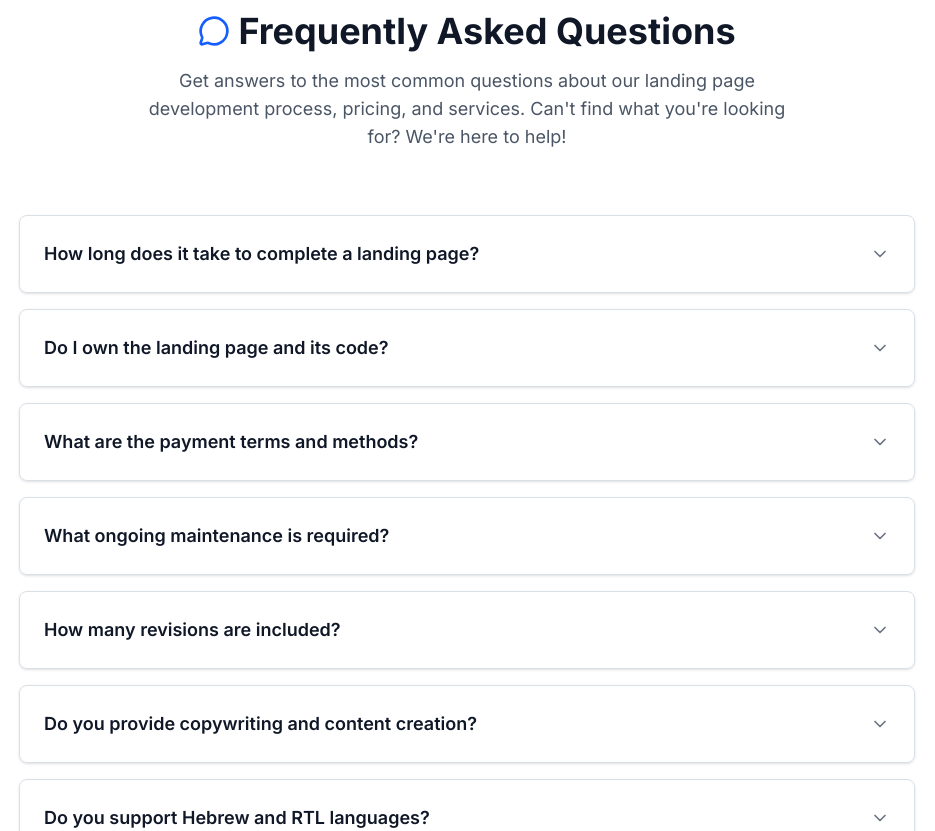
it: FAQ Component › Expand/Collapse Functionality › collapses FAQ item when clicked again
Note: First click to expand
Click the button "How long does it take to complete a landing page?" at (467, 254), box [44, 243, 890, 264]
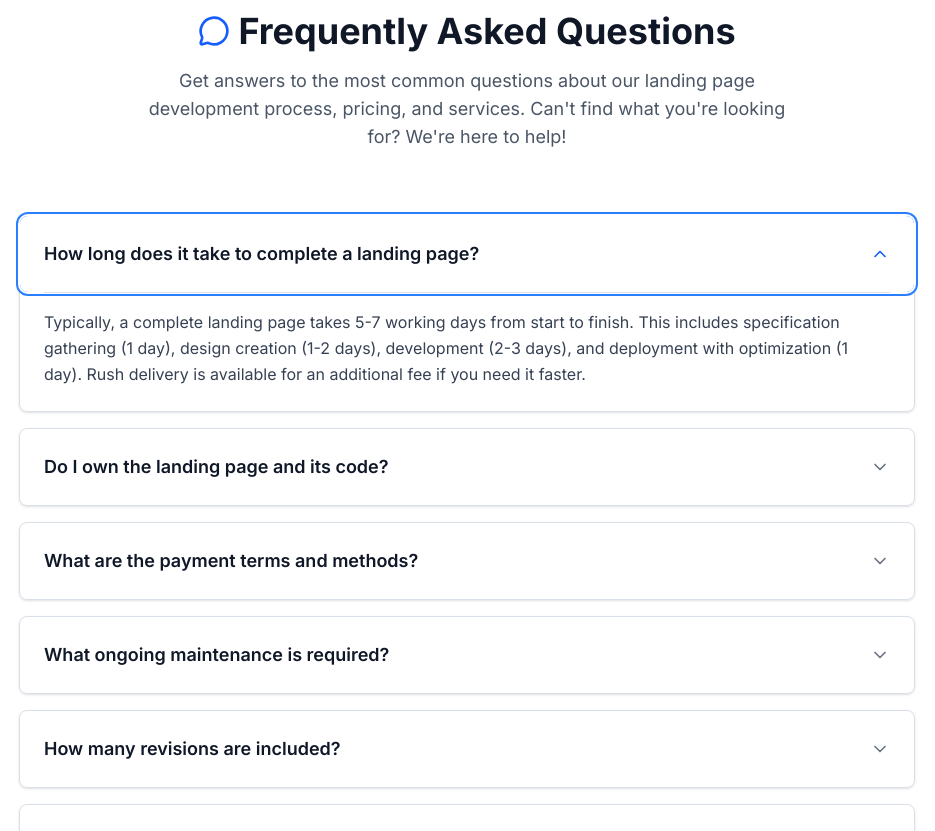
Now the button "How long does it take to complete a landing page?" is expanded
Note: Second click to collapse
Click the button "How long does it take to complete a landing page?" at (467, 254), box [20, 216, 914, 292]
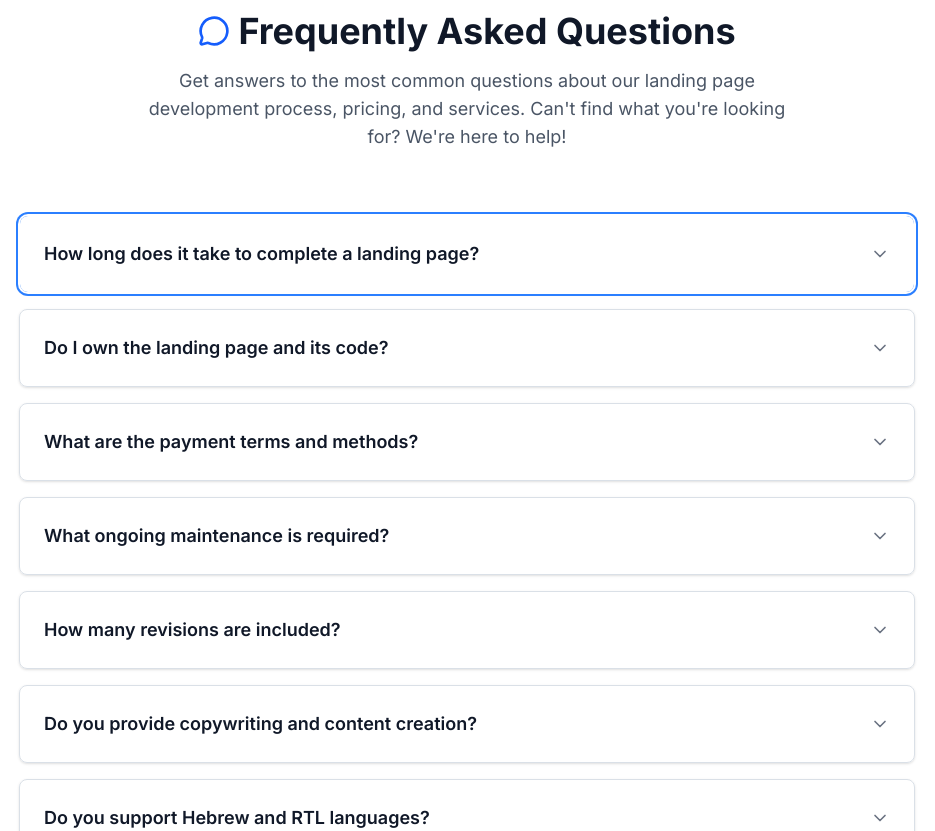
Now the button "How long does it take to complete a landing page?" is collapsed, box [20, 216, 914, 292]
